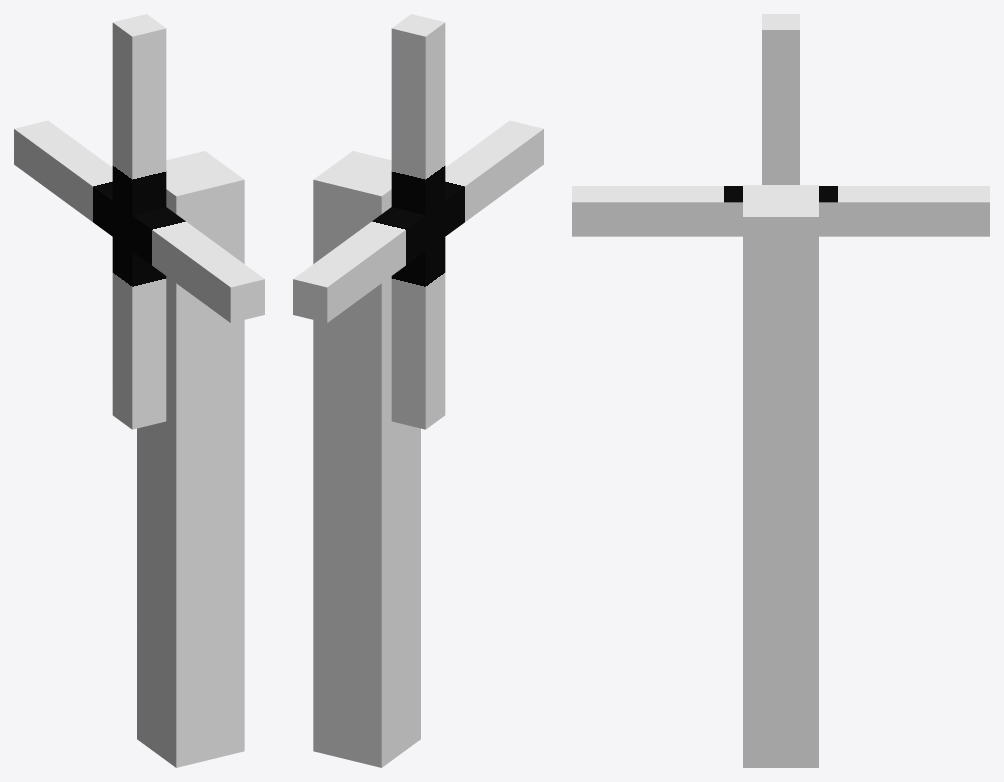
The model's file is turbine.obj.
3 renders of one model, left to right at view 1: azimuth 30°, elevation 25°; view 2: azimuth 150°, elevation 25°; view 3: azimuth 270°, elevation 25°, orthographic. The views are drawn at different scales.
Visible parts, largest first — view 1: cube; view 2: cube; view 3: cube.
Boxes of the visible parts, box(x1,y1,x2,y2) form: cube: box(14, 14, 264, 767); cube: box(293, 14, 543, 767); cube: box(572, 14, 989, 767).
Bounding box in the file's own units: 0.1875 × 1.28 × 0.6875.
Materials: 1 (1 with a texture image).
